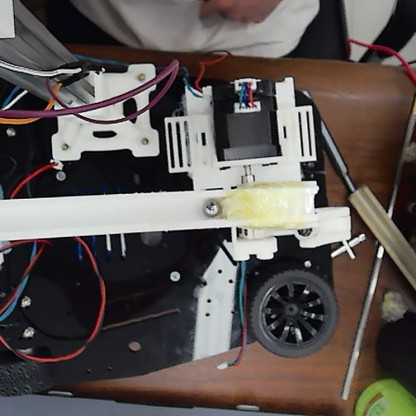ironball: (201, 195, 223, 218)
